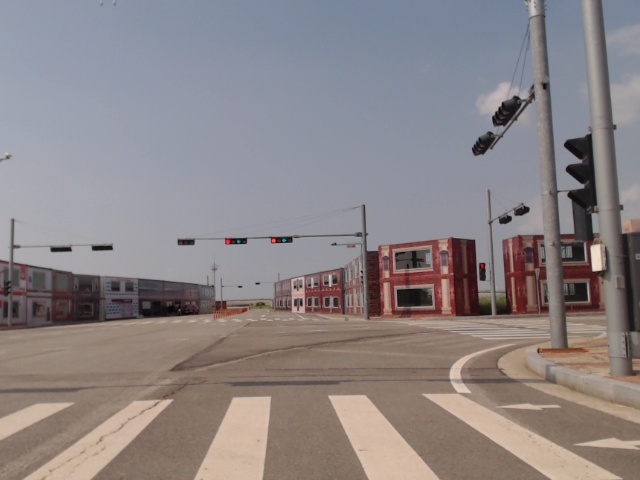left_green_4: (225, 238, 247, 245), (272, 237, 292, 243)
